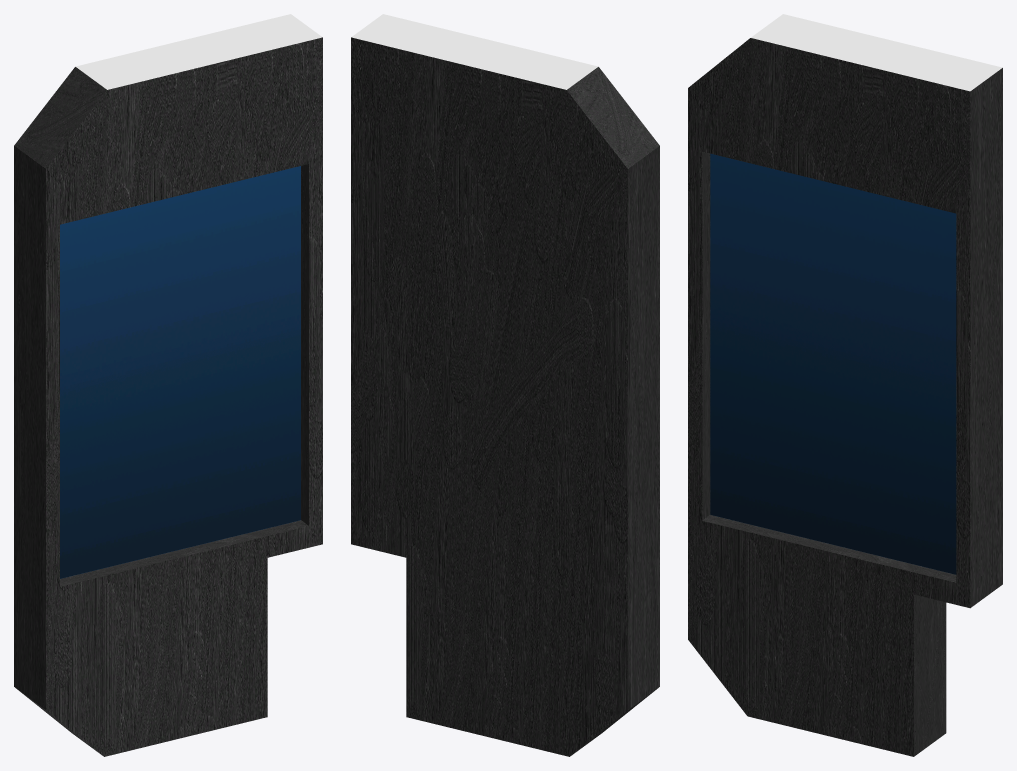
The model's file is ElevatorButton.fbx.
The picture shows the model from 3 angles, left to right: view 1: azimuth 30°, elevation 25°; view 2: azimuth 150°, elevation 25°; view 3: azimuth 330°, elevation 25°; orthographic projection.
Visible parts, largest first — view 1: node_id8 (×3); view 2: node_id8 (×2); view 3: node_id8 (×3).
Part boxes in pixels (x1,y1,x2,y2): node_id8 (×3): (14, 14, 322, 756); node_id8 (×2): (351, 14, 659, 756); node_id8 (×3): (688, 14, 1002, 756).
Bounding box in the file's own units: 0.2226 × 0.512 × 0.0445.
3 materials, 2 textured.
